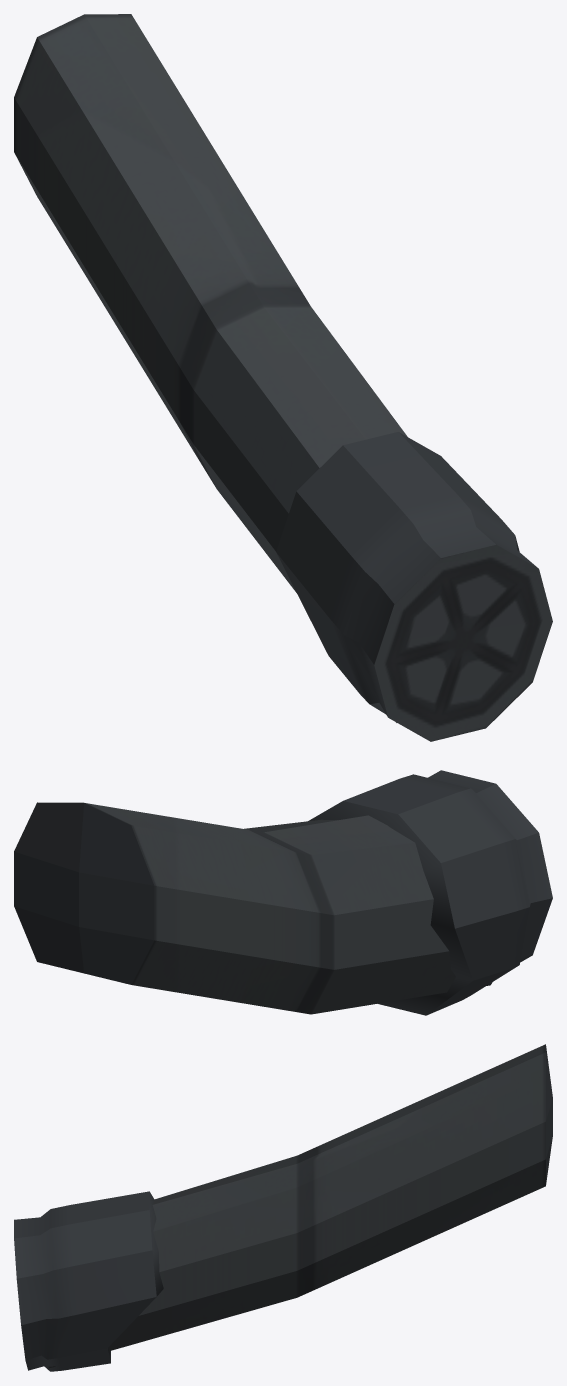
The model's file is SM_Bld_Roof_Edge_Small_Trim_End_01.fbx.
3 views of the same model, one above another, from view 1: azimuth 30°, elevation 25°; view 2: azimuth 150°, elevation 25°; view 3: azimuth 270°, elevation 25° (orthographic). The views are drawn at different scales.
Visible parts, largest first — view 1: SM_Bld_Roof_Edge_Small_Trim_End_01; view 2: SM_Bld_Roof_Edge_Small_Trim_End_01; view 3: SM_Bld_Roof_Edge_Small_Trim_End_01.
Part boxes in pixels (x1,y1,x2,y2): SM_Bld_Roof_Edge_Small_Trim_End_01: (14,14,552,741); SM_Bld_Roof_Edge_Small_Trim_End_01: (14,770,552,1015); SM_Bld_Roof_Edge_Small_Trim_End_01: (14,1044,552,1371).
Size of the model in its own units: 37.27 by 85.92 by 135.
